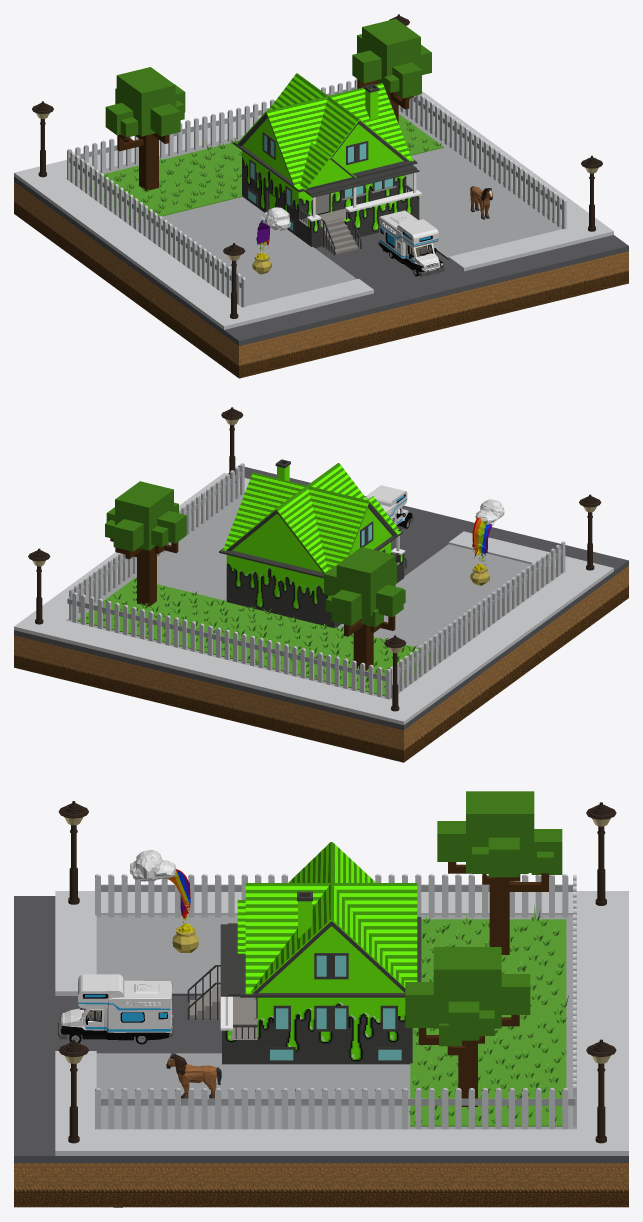
The picture shows the model from 3 angles, top to bottom: view 1: azimuth 30°, elevation 25°; view 2: azimuth 150°, elevation 25°; view 3: azimuth 270°, elevation 25°; orthographic projection. The views are drawn at different scales.
Visible parts, largest first — view 1: Cube.004, Cube.754, VEHICLES_CAMPER, OBJRANDOM_RAINBOW, ANIMAL_CABALLO; view 2: Cube.004, Cube.754, OBJRANDOM_RAINBOW, VEHICLES_CAMPER; view 3: Cube.004, Cube.754, VEHICLES_CAMPER, OBJRANDOM_RAINBOW, ANIMAL_CABALLO.
Part boxes in pixels (x1=…): Cube.004: x1=14, y1=14, x2=628, y2=378; Cube.754: x1=233, y1=73, x2=421, y2=255; VEHICLES_CAMPER: x1=378, y1=210, x2=444, y2=276; OBJRANDOM_RAINBOW: x1=252, y1=207, x2=290, y2=274; ANIMAL_CABALLO: x1=470, y1=186, x2=492, y2=219; Cube.004: x1=14, y1=407, x2=628, y2=762; Cube.754: x1=219, y1=459, x2=406, y2=628; OBJRANDOM_RAINBOW: x1=470, y1=499, x2=504, y2=585; VEHICLES_CAMPER: x1=366, y1=485, x2=413, y2=528; Cube.004: x1=14, y1=791, x2=628, y2=1207; Cube.754: x1=187, y1=842, x2=421, y2=1064; VEHICLES_CAMPER: x1=58, y1=974, x2=173, y2=1044; OBJRANDOM_RAINBOW: x1=129, y1=850, x2=198, y2=952; ANIMAL_CABALLO: x1=166, y1=1053, x2=221, y2=1098.
Size of the model in its own units: 4000 by 1573 by 4000.
39 materials, 4 textured.
